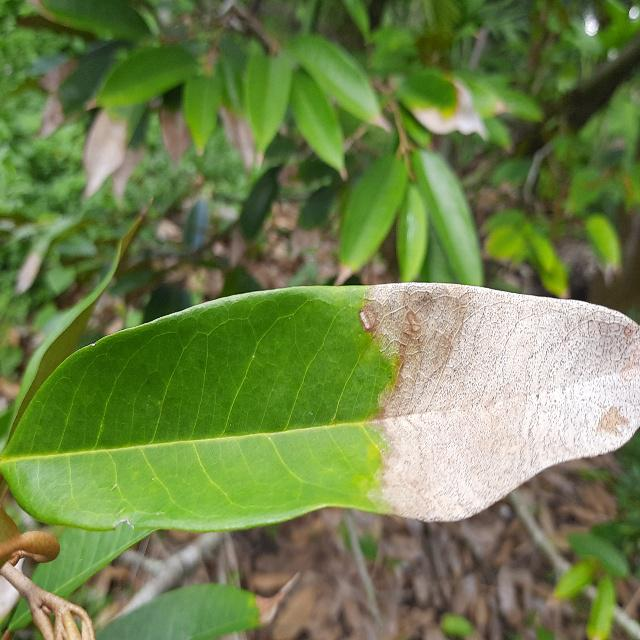Leaf Blight: (0, 277, 639, 546)
